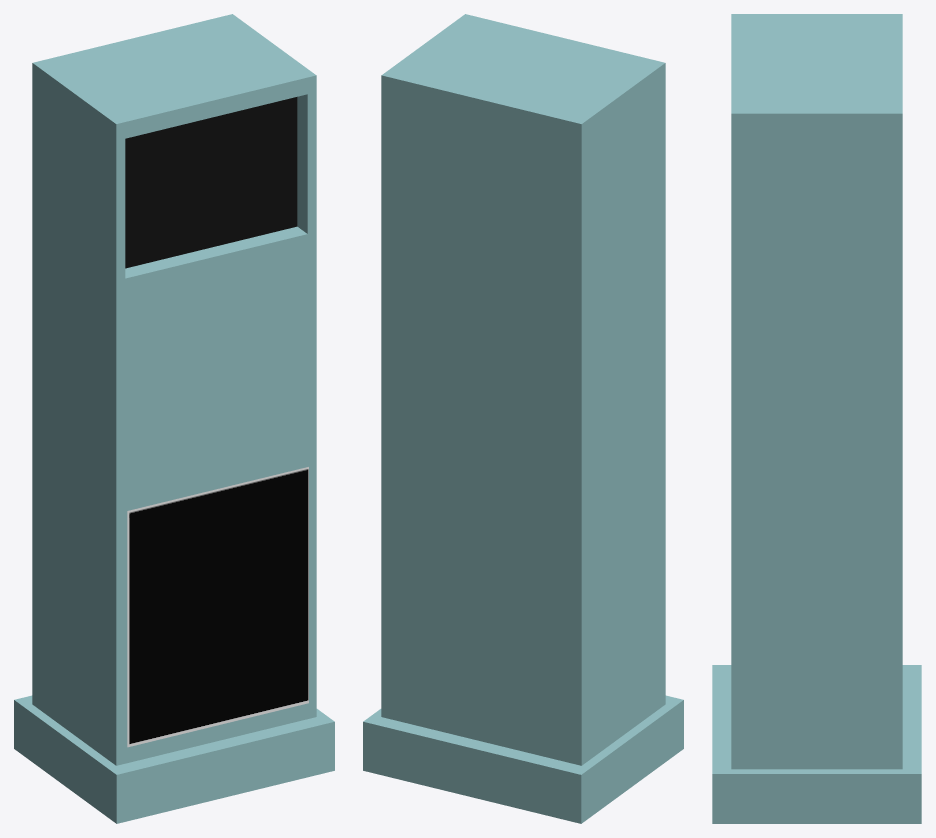
File: Itr_Airconditioner2_Body_04.FBX
3 views of the same model, side by side, from view 1: azimuth 30°, elevation 25°; view 2: azimuth 150°, elevation 25°; view 3: azimuth 270°, elevation 25° (orthographic). The views are drawn at different scales.
Parts seen in each view (by area): view 1: Itr_Airconditioner2_Body_04; view 2: Itr_Airconditioner2_Body_04; view 3: Itr_Airconditioner2_Body_04.
Part boxes in pixels (bbox=[...]): Itr_Airconditioner2_Body_04: bbox=[14, 14, 334, 823]; Itr_Airconditioner2_Body_04: bbox=[363, 14, 683, 823]; Itr_Airconditioner2_Body_04: bbox=[712, 14, 921, 823].
Bounding box in the file's own units: 26.9 × 81.38 × 21.9.
